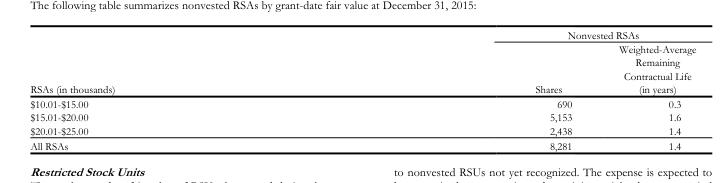table: (29, 28, 695, 151)
table column: (29, 28, 324, 151), (324, 28, 594, 151), (594, 28, 695, 151)
table column header: (29, 28, 695, 96)
table row: (29, 41, 695, 96), (29, 96, 695, 110), (29, 123, 695, 137), (29, 137, 695, 151), (29, 28, 695, 41), (29, 110, 695, 123)
table spanning cell: (29, 28, 324, 96), (324, 28, 695, 41)
